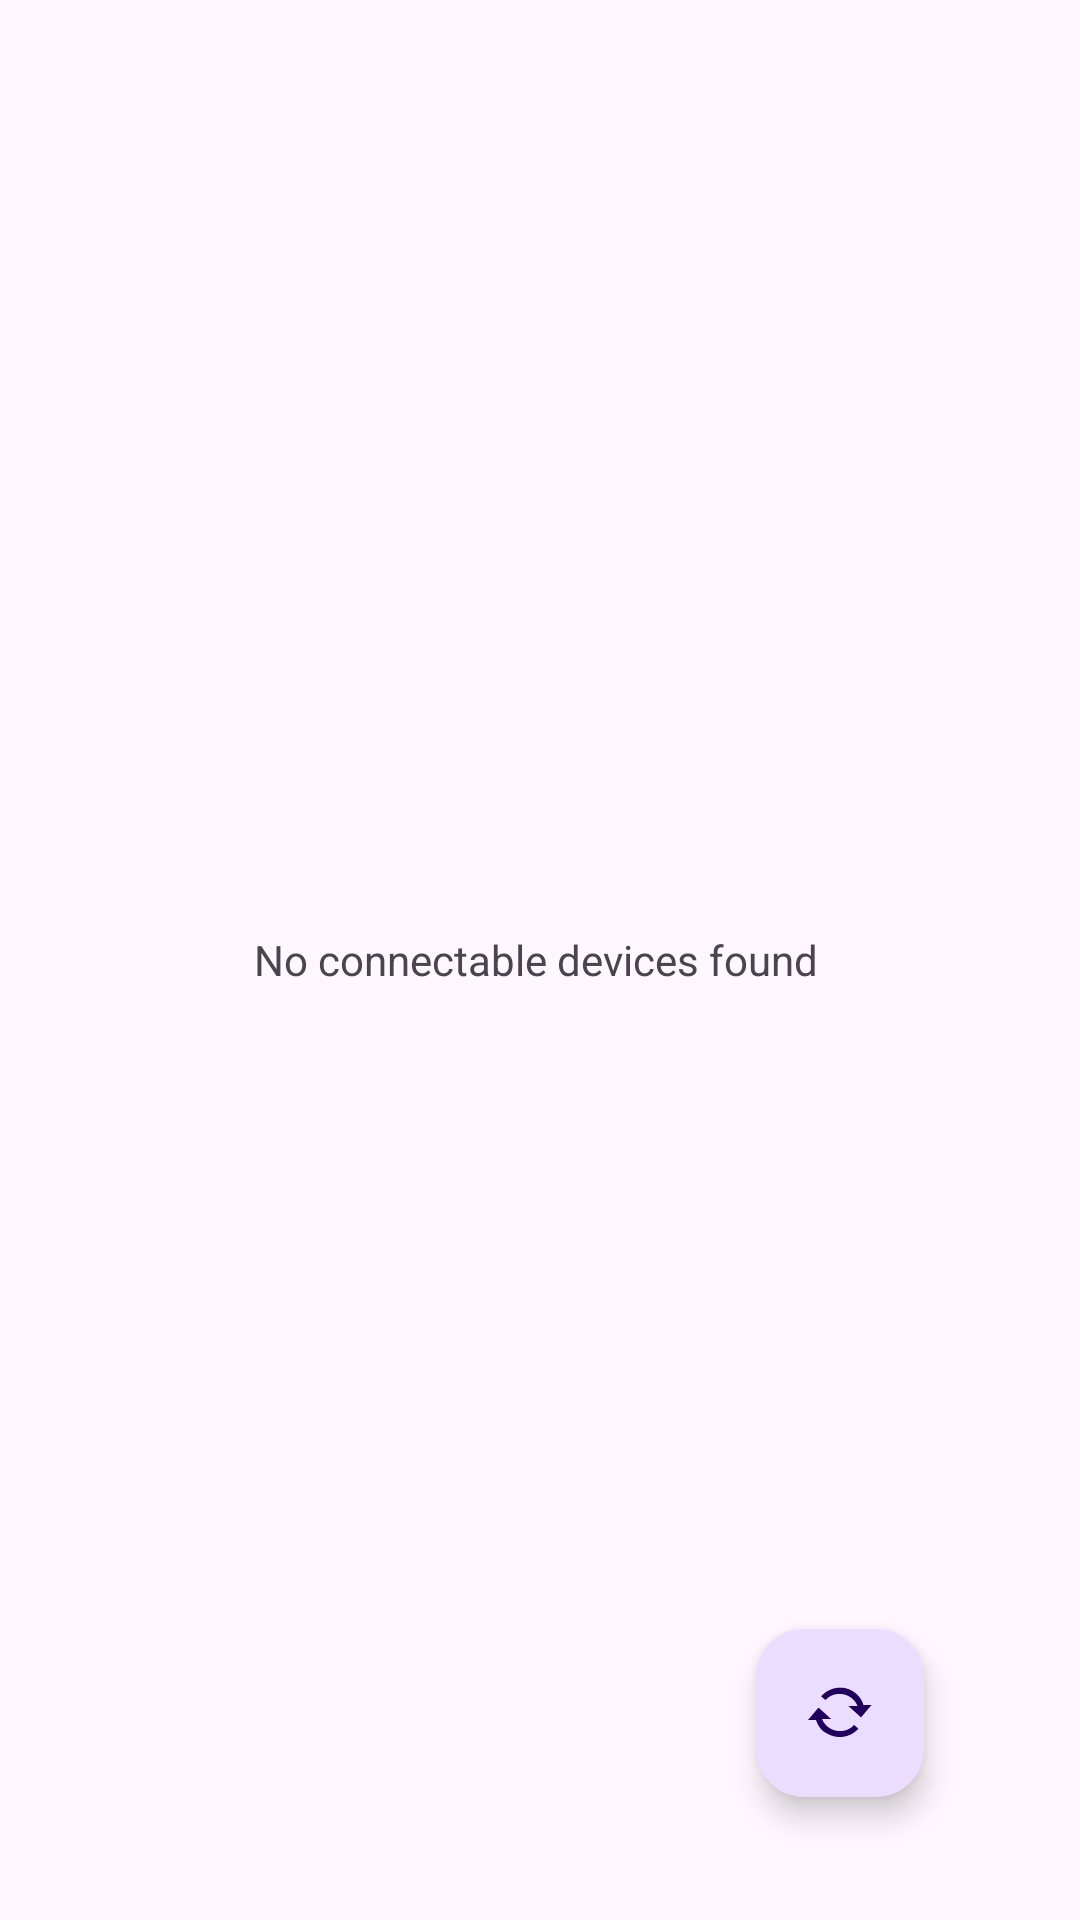

Icon click points for this 1080 × 1920 phone screenshot, format point (x, y):
Reload the list of available devices for Wi-Fi direct: point (840, 1713)
